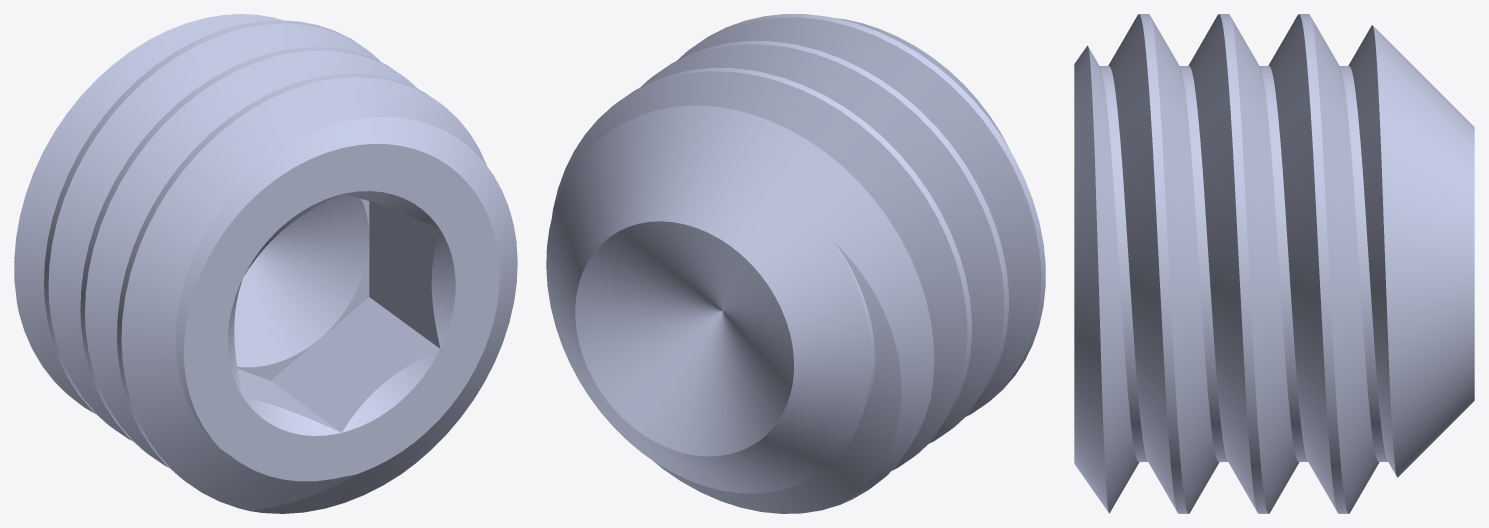
The model's file is _2920_0001_4008_assembly_STEP_1_2806_0005_0004_91390A117_STEP_1_solid1.obj.
3 renders of one model, left to right at view 1: azimuth 30°, elevation 25°; view 2: azimuth 150°, elevation 25°; view 3: azimuth 270°, elevation 25°, orthographic. The views are drawn at different scales.
Visible parts, largest first — view 1: mesh28410, mesh28396, mesh28386, mesh28399, mesh28389, mesh28393, mesh28397, mesh28379, mesh28406, mesh28404, mesh28402, mesh28390 (+9 smaller); view 2: mesh28407, mesh28411, mesh28413, mesh28412, mesh28414, mesh28406, mesh28404, mesh28402, mesh28398; view 3: mesh28407, mesh28410, mesh28412, mesh28398, mesh28399, mesh28403, mesh28409, mesh28405, mesh28411.
Part boxes in pixels (x1,y1,x2,y2): mesh28410: (14,14,486,510); mesh28396: (184,144,499,481); mesh28386: (234,237,369,367); mesh28399: (326,116,517,508); mesh28389: (270,297,439,432); mesh28393: (369,201,440,348); mesh28397: (176,124,341,446); mesh28379: (275,194,369,237); mesh28406: (44,27,236,425); mesh28404: (80,53,272,452); mesh28402: (117,80,309,480); mesh28390: (342,349,439,432); mesh28407: (552,17,1041,513); mesh28411: (685,109,934,504); mesh28413: (575,221,722,453); mesh28412: (546,105,729,489); mesh28414: (684,224,793,456); mesh28406: (759,72,971,455); mesh28404: (795,45,1008,429); mesh28402: (832,18,1045,402); mesh28398: (837,246,875,425); mesh28407: (1088,16,1379,513); mesh28410: (1108,14,1396,511); mesh28412: (1376,51,1474,477); mesh28398: (1100,66,1387,461); mesh28399: (1074,62,1108,512); mesh28403: (1144,37,1188,513); mesh28409: (1304,37,1348,513); mesh28405: (1224,37,1268,513); mesh28411: (1373,26,1474,139).
Size of the model in its own units: 0.005 by 0.005 by 0.004.
